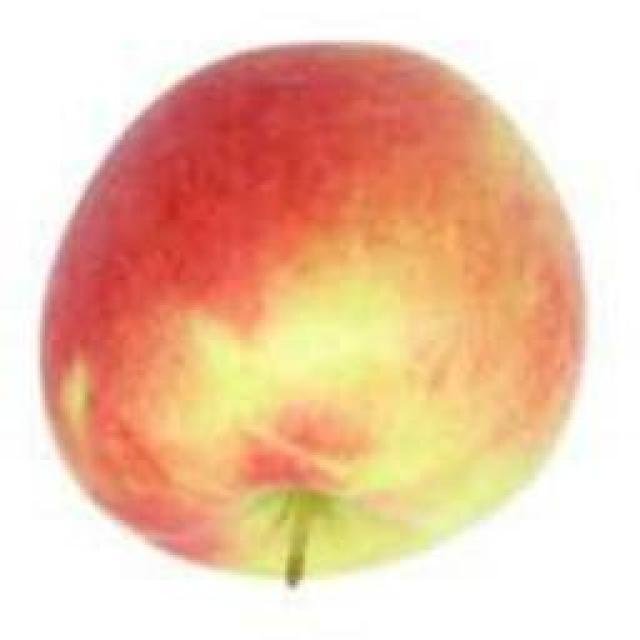Apple: (44, 44, 581, 581)
